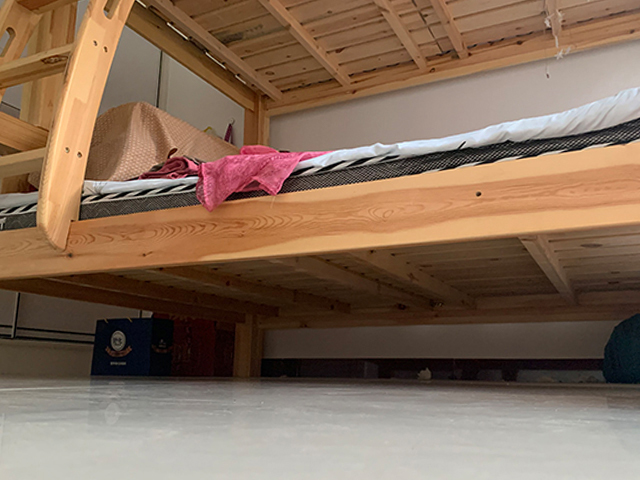bed: (1, 1, 638, 377)
